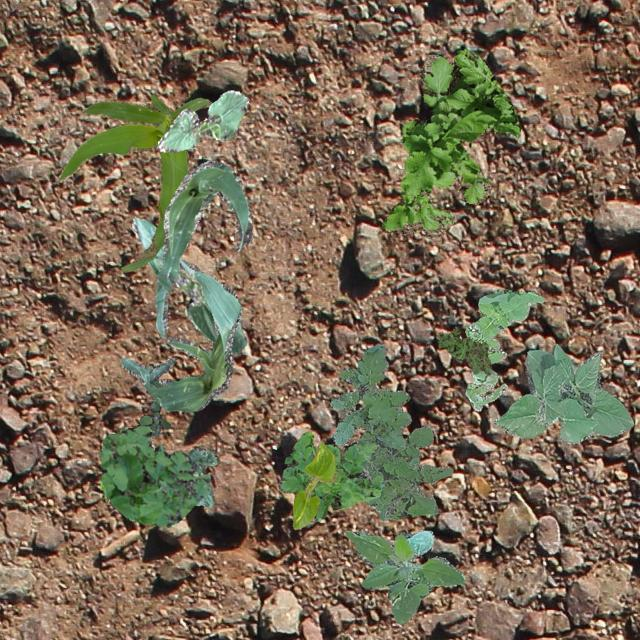crop: (54, 94, 210, 272), (120, 258, 242, 412), (154, 160, 252, 336), (130, 215, 246, 352), (492, 342, 632, 442), (344, 528, 464, 624), (156, 90, 248, 150), (292, 442, 336, 528), (186, 446, 216, 506)
weed: (380, 49, 520, 238), (329, 343, 452, 520), (99, 422, 208, 526), (464, 288, 544, 410), (278, 430, 382, 520), (436, 326, 490, 374), (138, 398, 170, 436)
